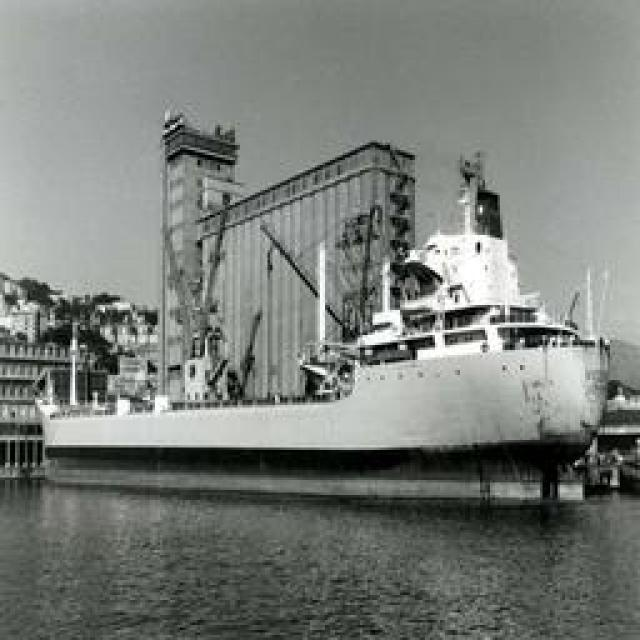Ship: (36, 120, 616, 495)
